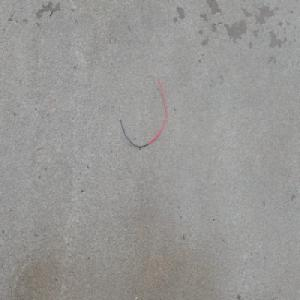Wire: (115, 71, 167, 150)
